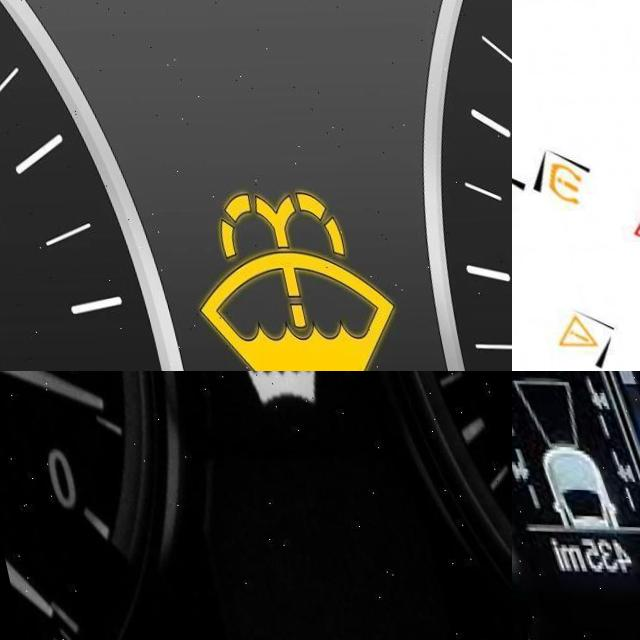Washer Fluid: (208, 371, 314, 406)
